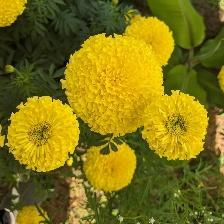marigold: (64, 33, 166, 134), (5, 86, 81, 178), (83, 138, 137, 195)
